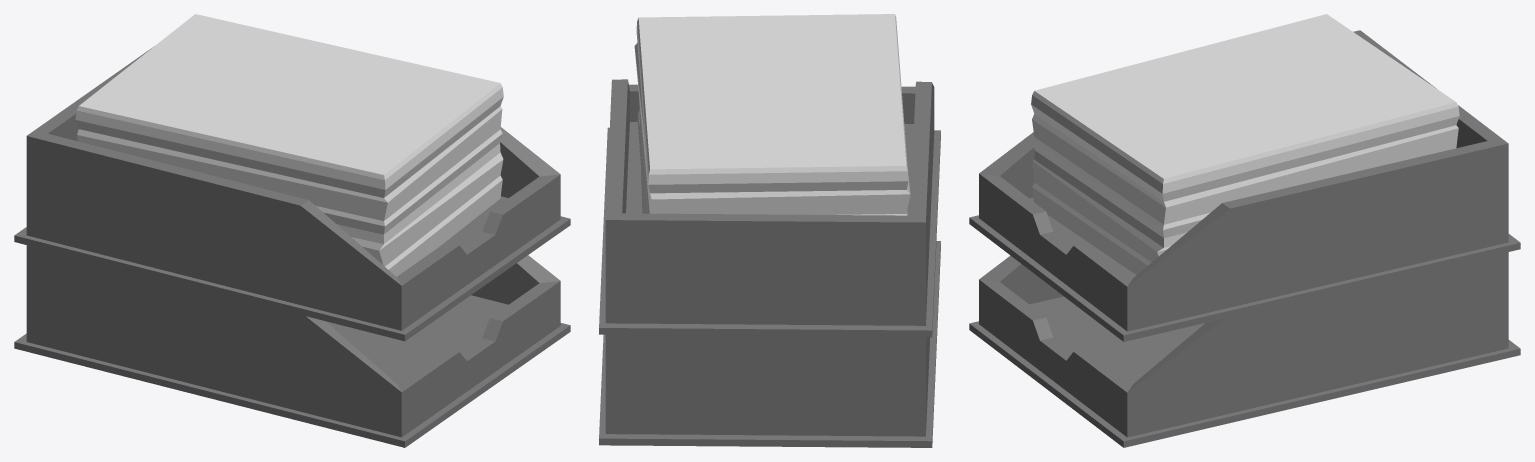
Rendered from GuardaHojas.fbx.
3 views of the same model, side by side, from view 1: azimuth 30°, elevation 25°; view 2: azimuth 150°, elevation 25°; view 3: azimuth 270°, elevation 25° (orthographic). The views are drawn at different scales.
Parts seen in each view (by area): view 1: Guarda_Hojas; view 2: Guarda_Hojas; view 3: Guarda_Hojas.
Part boxes in pixels (x1,y1,x2,y2): Guarda_Hojas: [14, 14, 570, 447]; Guarda_Hojas: [599, 14, 940, 447]; Guarda_Hojas: [969, 14, 1520, 447].
Bounding box in the file's own units: 53.02 × 28.71 × 58.61.
